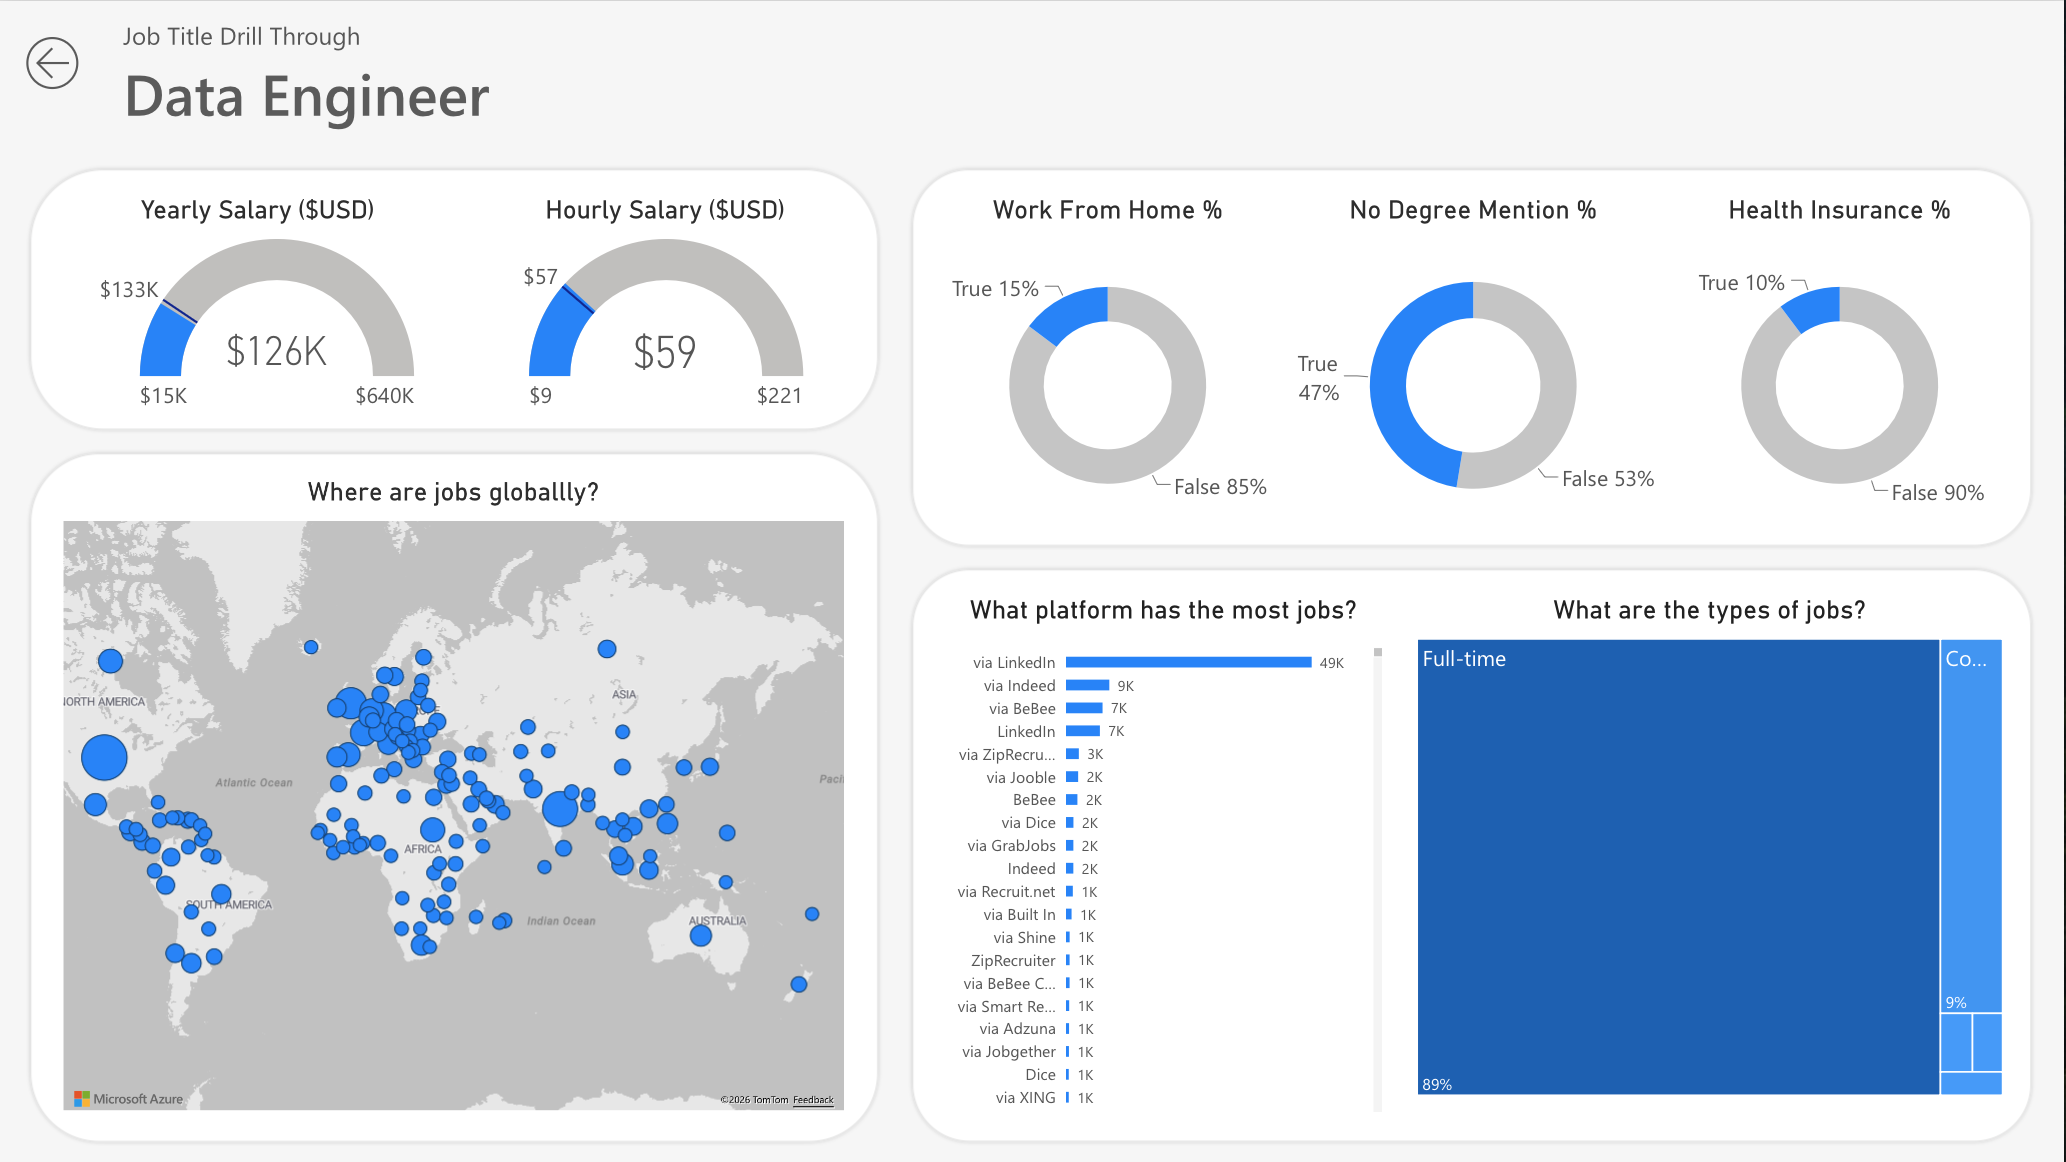

The dashboard page shown, as its layout file describes it:
{"tool":"powerbi","page":{"name":"Job Title Drill Through","canvas":[1920,1080],"ordinal":1},"visuals":[{"type":"group","id":"g1","title":"Background","box":[26,152,1868,912],"z":0},{"type":"shape","box":[26,416,796,648],"z":0,"group":"g1"},{"type":"cardVisual","fields":{"Data":["Min(job_postings_flat.job_title_short)1"]},"box":[100,12,390,116],"z":1000},{"type":"shape","box":[26,152,796,250],"z":1000,"group":"g1"},{"type":"actionButton","box":[0,12,100,94],"z":2000},{"type":"shape","box":[846,152,1048,358],"z":2000,"group":"g1"},{"type":"gauge","title":"Yearly Salary ($USD)","fields":{"MaxValue":["Max(job_postings_flat.salary_year_avg)2"],"MinValue":["Min(job_postings_flat.salary_year_avg)1"],"TargetValue":["Avg(job_postings_flat.salary_year_avg)3"],"Y":["Median(job_postings_flat.salary_year_avg)"]},"box":[42,170,396,232],"z":3000},{"type":"shape","box":[846,524,1048,540],"z":3000,"group":"g1"},{"type":"gauge","title":"Hourly Salary ($USD)","fields":{"MaxValue":["Max(job_postings_flat.salary_hour_avg)1"],"MinValue":["Min(job_postings_flat.salary_hour_avg)"],"TargetValue":["Avg(job_postings_flat.salary_hour_avg)2"],"Y":["Median(job_postings_flat.salary_hour_avg)"]},"box":[438,170,362,232],"z":4000},{"type":"donutChart","title":"Work From Home %","fields":{"Category":["job_postings_flat.job_work_from_home"],"Y":["CountNonNull(job_postings_flat.job_title_short)"]},"box":[864,170,334,340],"z":5000},{"type":"donutChart","title":"No Degree Mention %","fields":{"Category":["job_postings_flat.job_no_degree_mention"],"Y":["CountNonNull(job_postings_flat.job_title_short)"]},"box":[1184,170,374,340],"z":6000},{"type":"donutChart","title":"Health Insurance %","fields":{"Category":["job_postings_flat.job_health_insurance"],"Y":["CountNonNull(job_postings_flat.job_title_short)"]},"box":[1544,170,334,340],"z":7000},{"type":"azureMap","title":"Where are jobs globallly?","fields":{"Category":["job_postings_flat.job_country"],"Size":["CountNonNull(job_postings_flat.job_title_short)"]},"box":[44,432,758,616],"z":8000},{"type":"treemap","title":"What are the types of jobs?","fields":{"Group":["job_postings_flat.job_schedule_type"],"Values":["CountNonNull(job_postings_flat.job_schedule_type)"]},"box":[1302,540,576,492],"z":9000},{"type":"barChart","title":"What platform has the most jobs?","fields":{"Category":["job_postings_flat.job_via"],"Y":["CountNonNull(job_postings_flat.job_via)"]},"box":[864,540,438,508],"z":10000}]}

Visuals, with their boxes in screenshot pixels (x1, y1, x2, y2), scaled from the page's 1920x1080 canvas onto the 2066x1162 screenshot:
"Background" group: box=[28, 164, 2038, 1145]
shape: box=[28, 448, 885, 1145]
cardVisual - Min(job_postings_flat.job_title_short)1: box=[108, 13, 527, 138]
shape: box=[28, 164, 885, 433]
actionButton: box=[0, 13, 108, 114]
shape: box=[910, 164, 2038, 549]
"Yearly Salary ($USD)" gauge: box=[45, 183, 471, 433]
shape: box=[910, 564, 2038, 1145]
"Hourly Salary ($USD)" gauge: box=[471, 183, 861, 433]
"Work From Home %" donutChart: box=[930, 183, 1289, 549]
"No Degree Mention %" donutChart: box=[1274, 183, 1676, 549]
"Health Insurance %" donutChart: box=[1661, 183, 2021, 549]
"Where are jobs globallly?" azureMap: box=[47, 465, 863, 1128]
"What are the types of jobs?" treemap: box=[1401, 581, 2021, 1110]
"What platform has the most jobs?" barChart: box=[930, 581, 1401, 1128]
